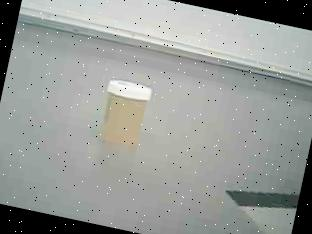Bottle B: (87, 70, 162, 158)
